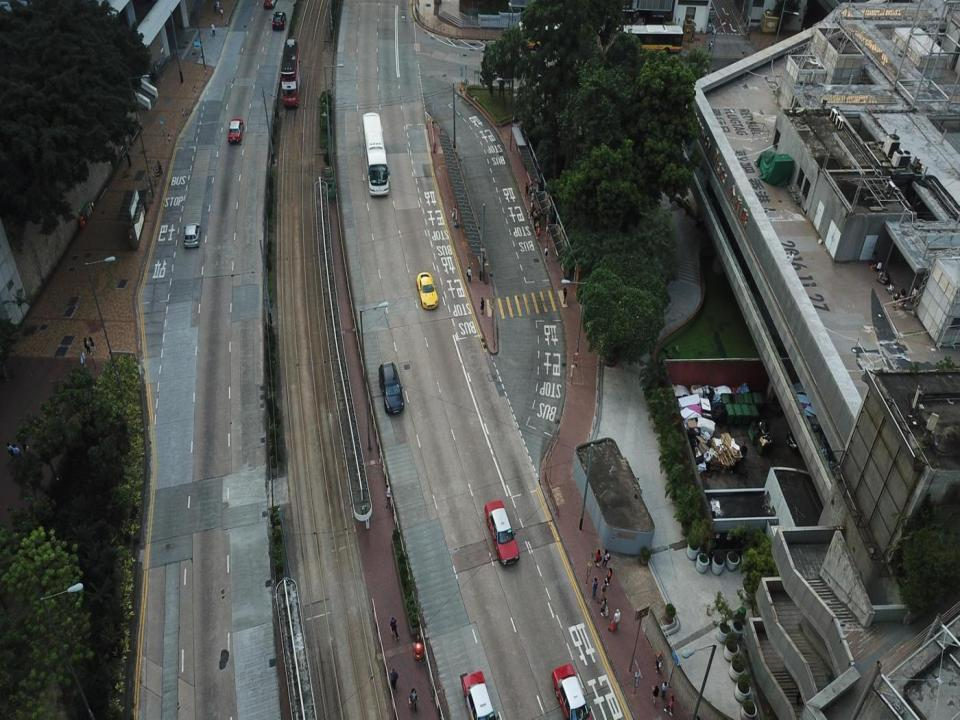bus: (520, 24, 683, 55), (362, 111, 390, 197), (282, 37, 300, 106)
car: (485, 499, 519, 565), (551, 663, 591, 719), (462, 671, 496, 719), (378, 361, 404, 414), (786, 418, 823, 455), (417, 271, 437, 309), (183, 223, 201, 247), (228, 119, 244, 144), (272, 11, 286, 30), (263, 0, 278, 8)
